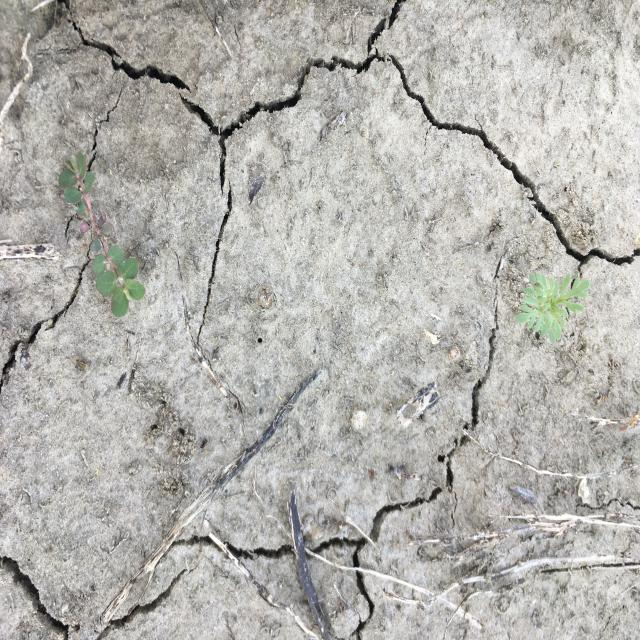Ragweed: (514, 268, 592, 346)
SpottedSpurge: (57, 148, 146, 320)
